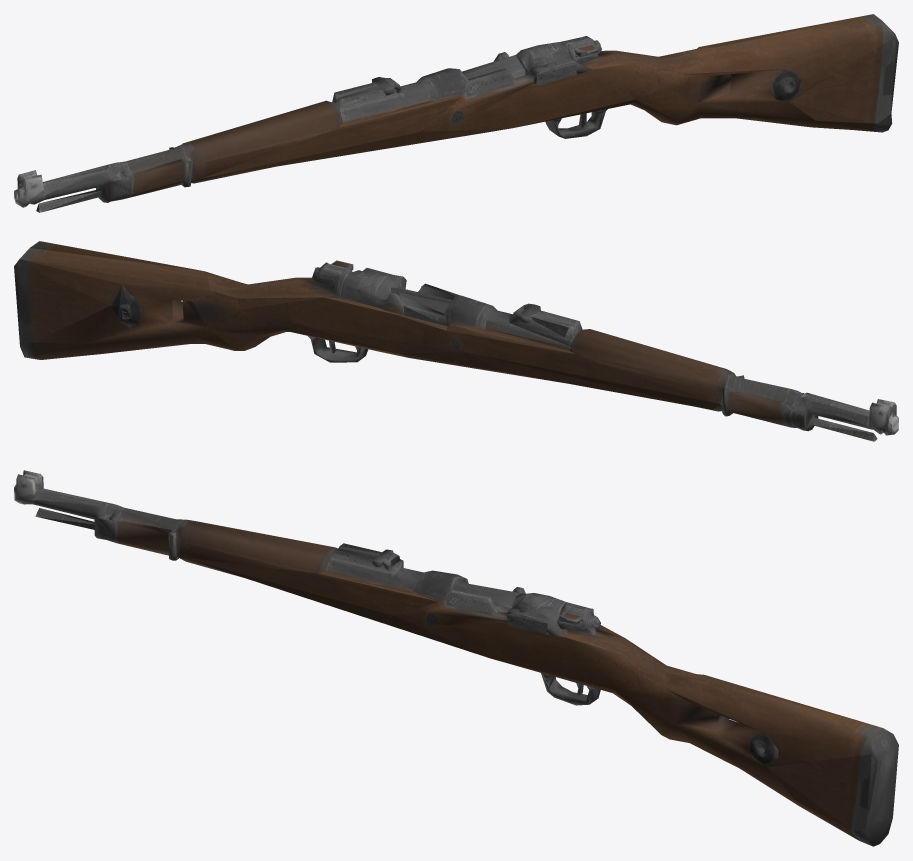
File: riflekar89.glb
3 renders of one model, top to bottom at view 1: azimuth 30°, elevation 25°; view 2: azimuth 150°, elevation 25°; view 3: azimuth 330°, elevation 25°, orthographic.
Visible parts, largest first — view 1: mesh_node; view 2: mesh_node; view 3: mesh_node.
Part boxes in pixels (bbox=[...]): mesh_node: bbox=[14, 14, 898, 212]; mesh_node: bbox=[14, 241, 898, 441]; mesh_node: bbox=[14, 470, 898, 846].
Bounding box in the file's own units: 2.16 × 0.4 × 0.1246.
1 material, 1 textured.
